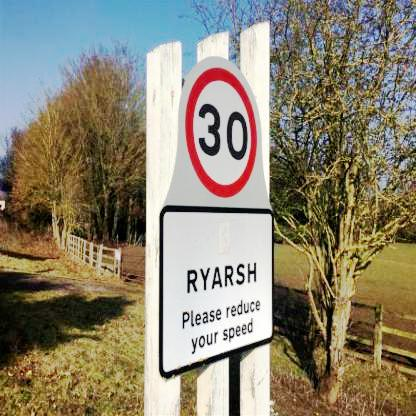Speed Limit -30-: (179, 68, 260, 198)
